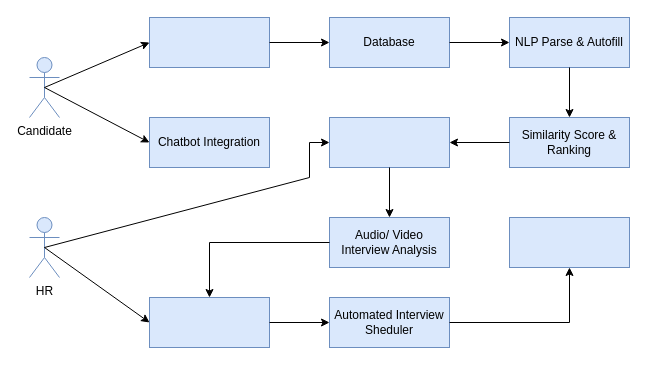
The diagram is 647 pixels wide and 365 high, and some of its shapes have lost their labels. Here are the shapes that lost their labels. From the top down, the centre of each, then its label:
the point at 209,42: Candidate Apply
the point at 389,142: Audio/ Video Interview Input
the point at 569,242: Decisioning & Offer Management
the point at 209,322: HR Review & Shortlist
